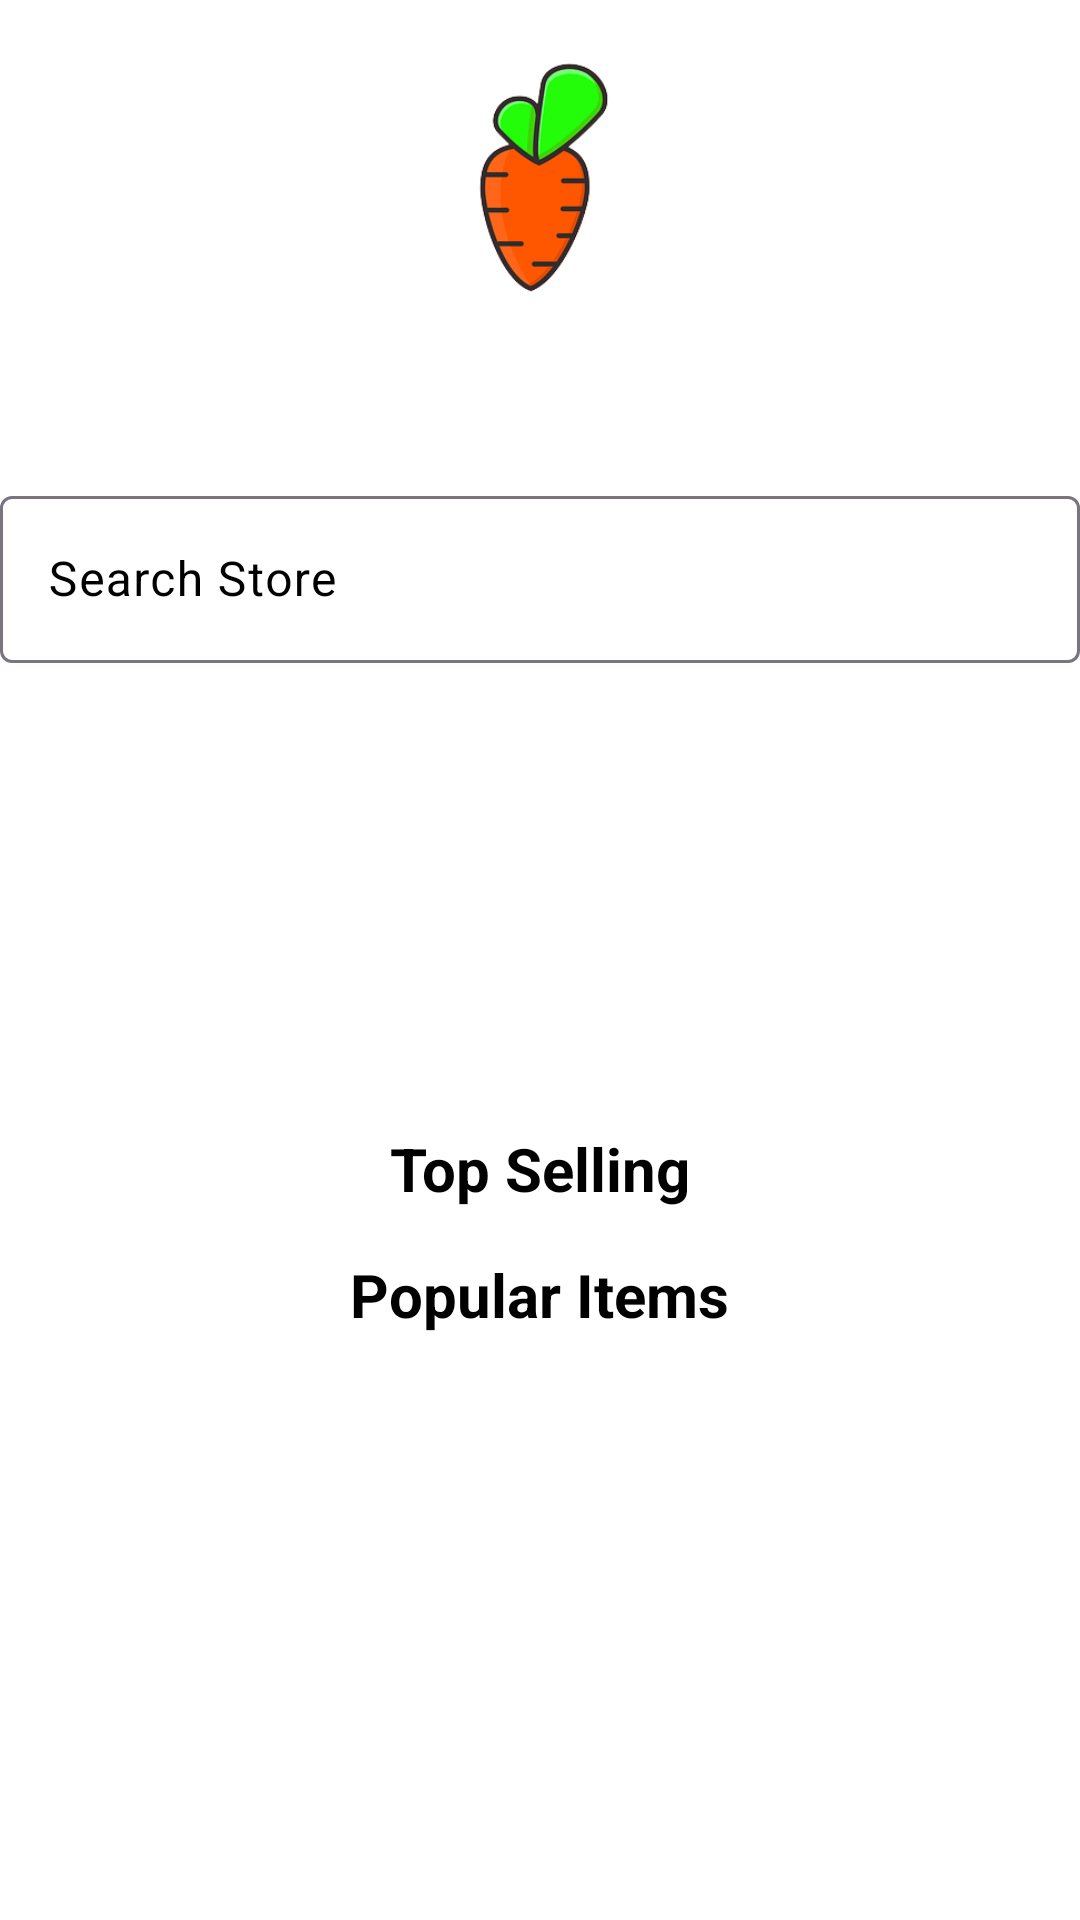

Screen size 1080 × 1920. Icon name, then its center in pixels as point (x, y):
carrot: point (543, 177)
